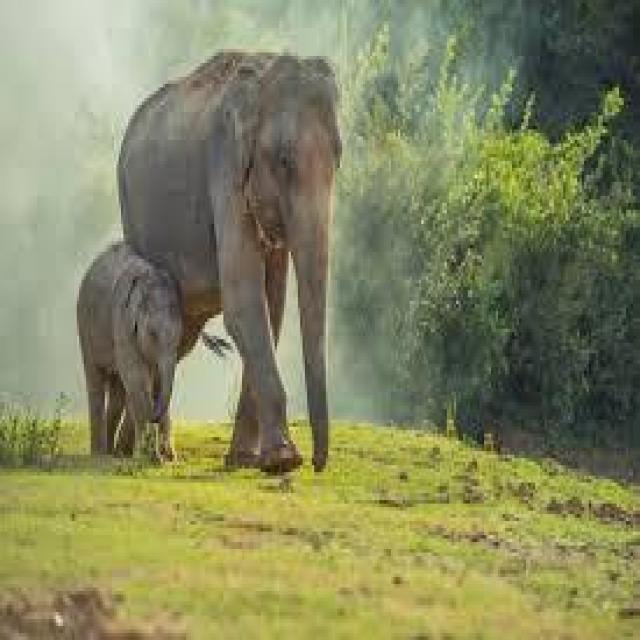Elephant: (75, 49, 346, 478), (74, 242, 184, 474)
